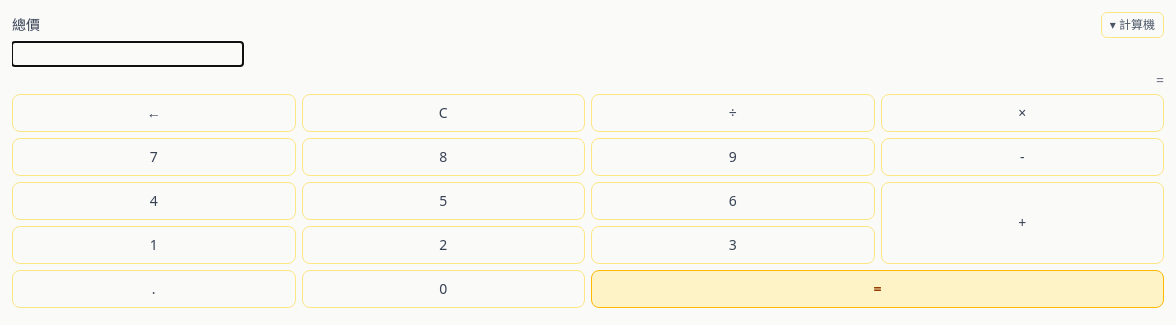
Test: preserves the last valid preview and ignores touches that scroll
This screenshot has width=1176, height=325.
Press the mouse on the button "8": (443, 157) [302, 138, 585, 176]
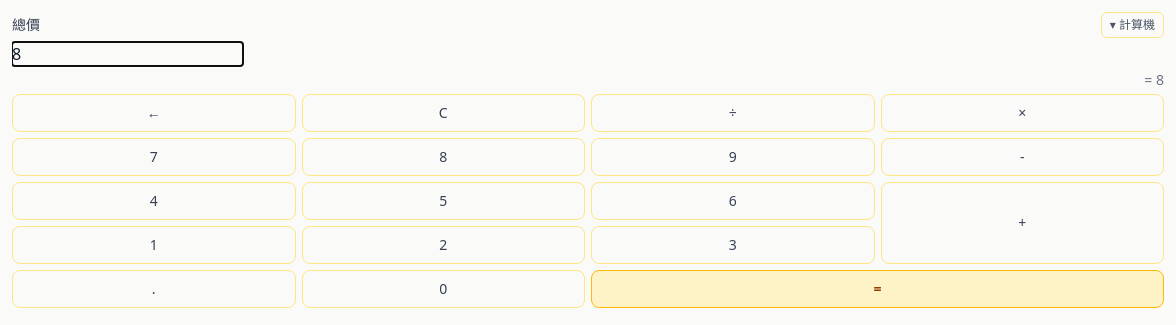
Press the mouse on the button "+": (1022, 223) [880, 182, 1164, 264]
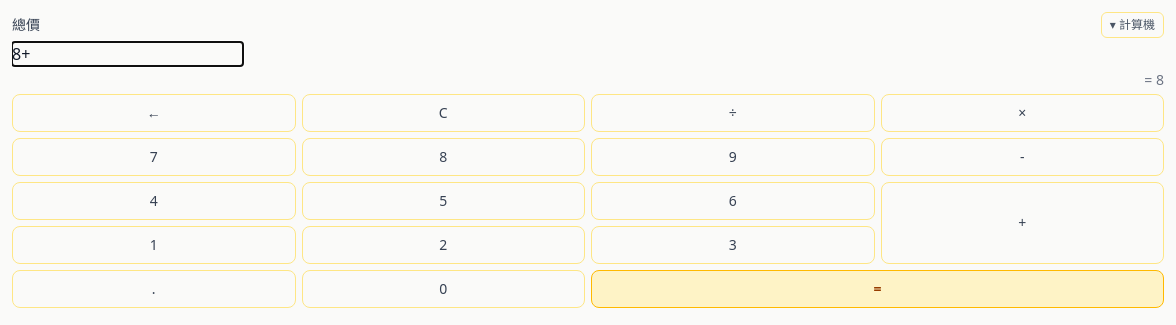
Now the text "= 8" is shown, box [1144, 70, 1164, 89]
Press the mouse on the button "2": (443, 245) [302, 226, 585, 264]
Now the field holds "8+", box [12, 42, 243, 66]
Press the mouse on the button "2": (443, 245) [302, 226, 585, 264]
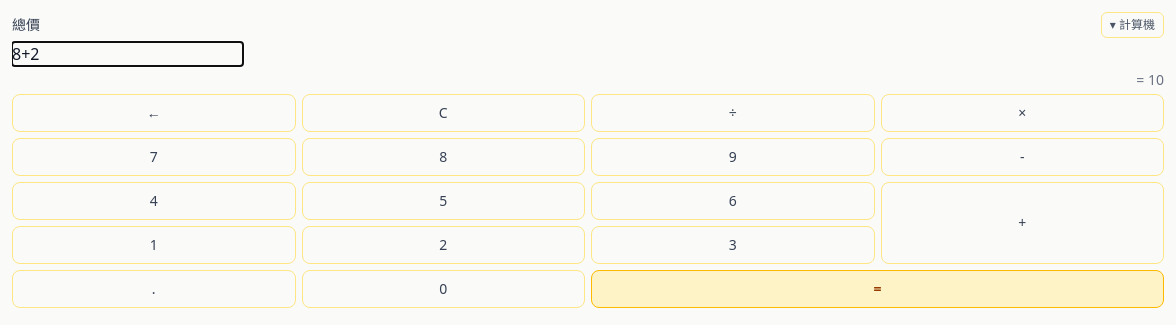
Now the text "= 10" is shown, box [1136, 70, 1164, 89]
Press the mouse on the button "C": (443, 113) [302, 94, 585, 132]
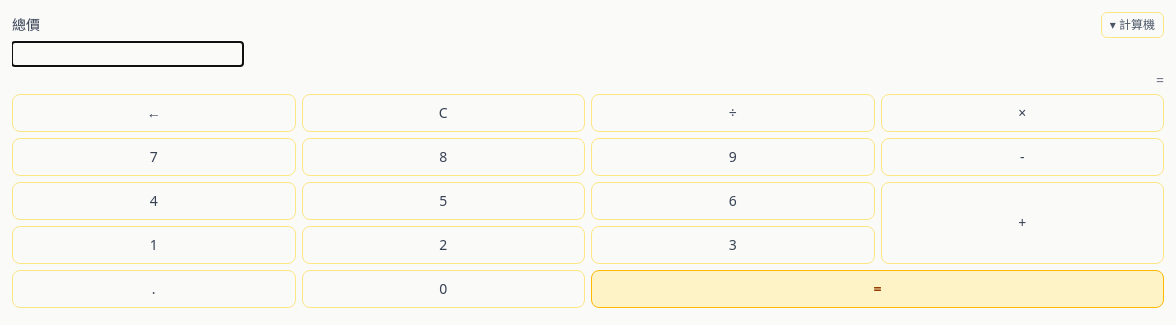
Now the field is empty, box [12, 42, 243, 66]
Now the text "=" is shown, box [1156, 70, 1164, 89]
